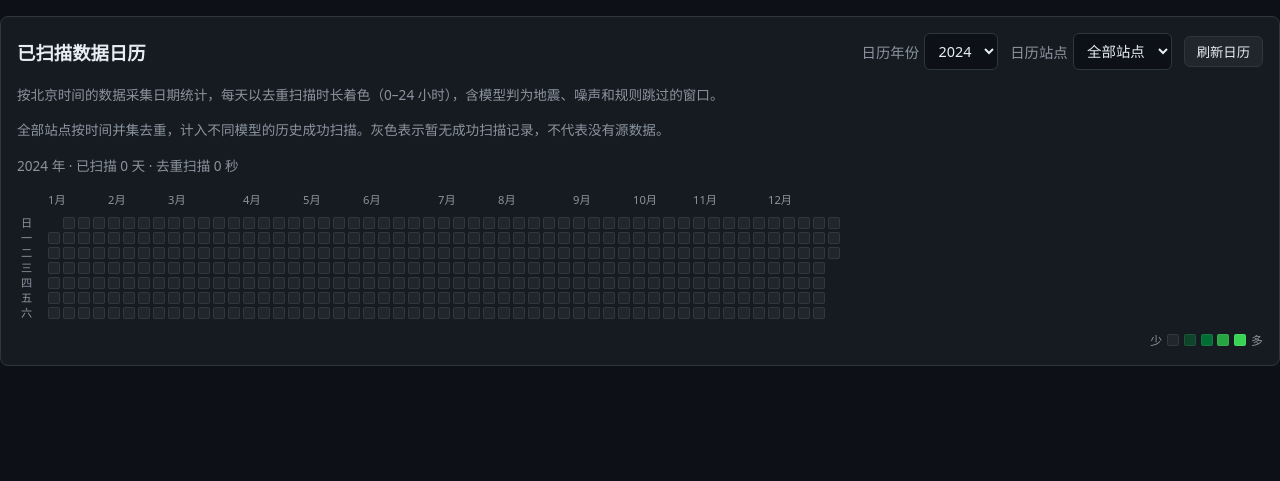
it: aborts site and day reads on unmount and leaves no polling timer
What coordinates should you click on to do the following:
click the button named "2024-01-01"
I would click on:
 (54, 238)
Its box is x1=48 y1=232 x2=60 y2=244.
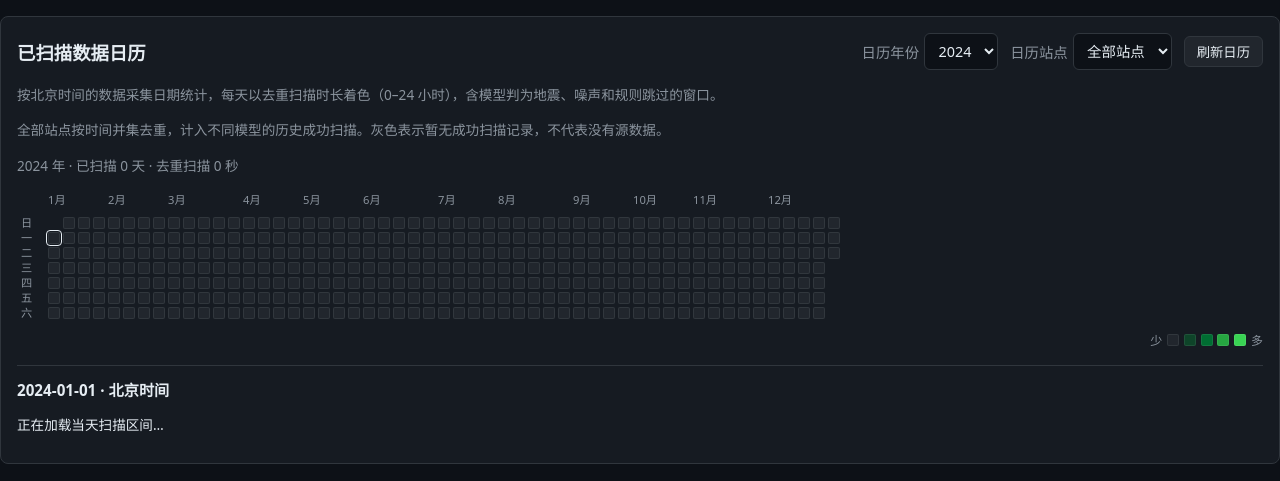
Check: the text "正在加载当天扫描区间…" is shown, box x1=17 y1=415 x2=164 y2=434
